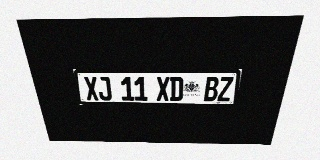1: (120, 77, 134, 101), (133, 77, 147, 101)
B: (204, 77, 219, 101)
D: (170, 77, 183, 101)
J: (96, 77, 112, 101)
X: (83, 77, 99, 100), (156, 77, 169, 101)
Z: (217, 77, 234, 101)
